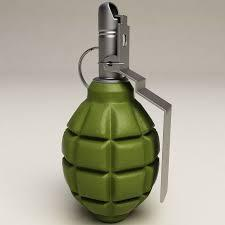Grenade: (60, 0, 171, 222)
